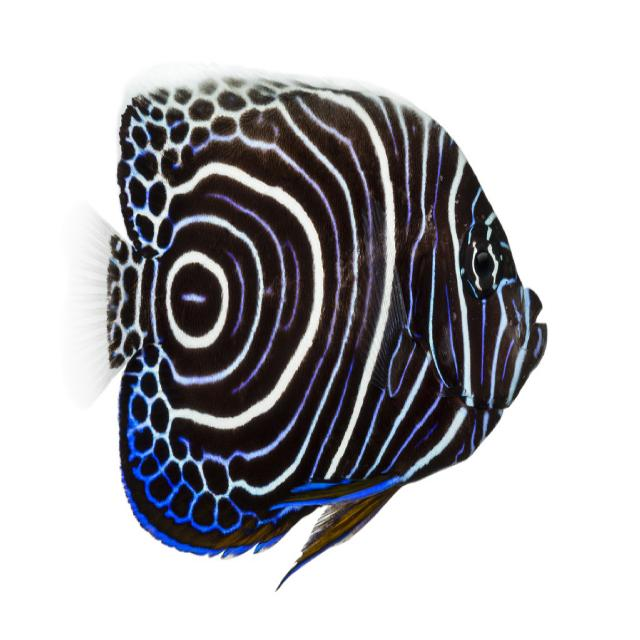AngelFish: (101, 73, 548, 589)
